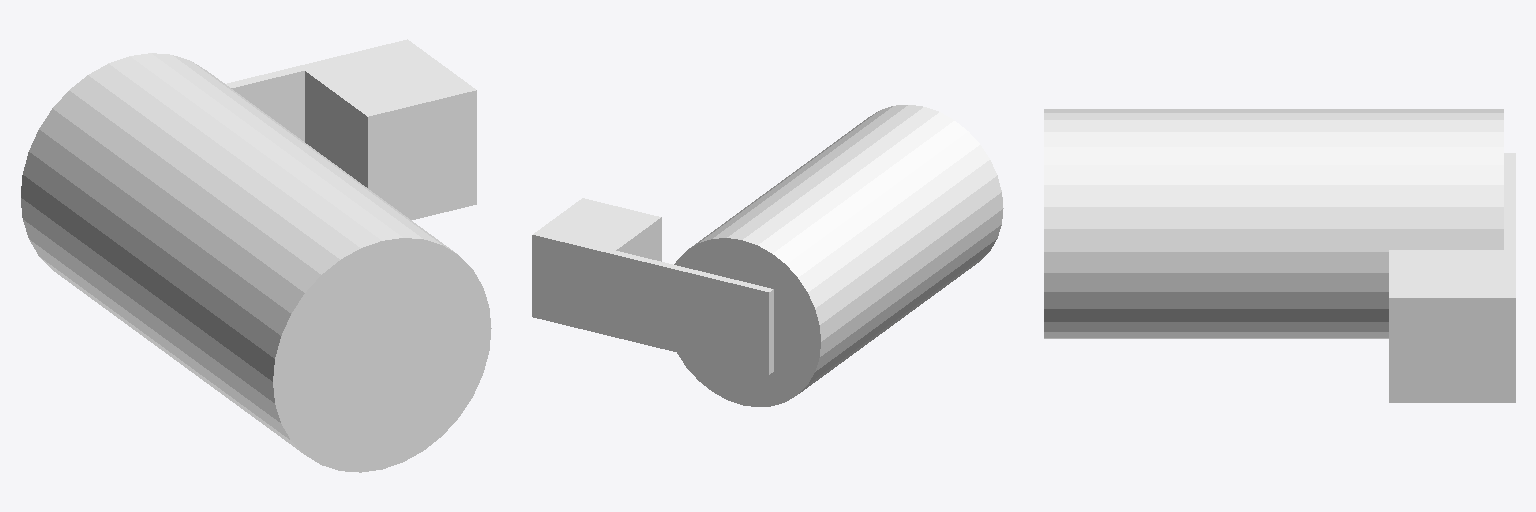
robot.urdf — aubo_i5:
<?xml version="1.0"?>
<robot name="aubo_i5">

    <link name="base_link">
        <inertial>
            <origin xyz="-1.4795E-13 0.0015384 0.020951" rpy="0 0 0" />
            <mass value="0.83419" />
            <inertia ixx="0.0014414" ixy="7.8809E-15" ixz="8.5328E-16" iyy="0.0013542" iyz="-1.4364E-05" izz="0.0024659" />
        </inertial>
        <visual>
            <origin xyz="0 0 0" rpy="0 0 0" />
            <geometry>
                <mesh filename="package://aubo_description/meshes/aubo_i5/visual/base_link.DAE" />
            </geometry>
            <material name="">
                <color rgba="1 1 1 1" />
            </material>
        </visual>
        <collision>
            <origin xyz="0 0 0" rpy="0 0 0" />
            <geometry>
                <mesh filename="package://aubo_description/meshes/aubo_i5/collision/base_link.STL" />
            </geometry>
        </collision>
    </link>

    <link name="shoulder_Link">
        <inertial>
            <origin xyz="3.2508868974735E-07 0.00534955349296065 -0.00883689325611056" rpy="0 0 0" />
            <mass value="1.57658348693929" />
            <inertia ixx="0.0040640448663128" ixy="0" ixz="0" iyy="0.00392863238466817" iyz="-0.000160151642851425" izz="0.0030869857349184" />
        </inertial>
        <visual>
            <origin xyz="0 0 0" rpy="0 0 0" />
            <geometry>
                <mesh filename="package://aubo_description/meshes/aubo_i5/visual/shoulder_Link.DAE" />
            </geometry>
            <material name="">
                <color rgba="1 1 1 1" />
            </material>
        </visual>
        <collision>
            <origin xyz="0 0 0" rpy="0 0 0" />
            <geometry>
                <mesh filename="package://aubo_description/meshes/aubo_i5/collision/shoulder_Link.STL" />
            </geometry>
        </collision>
    </link>

    <joint name="shoulder_joint" type="revolute">
        <origin xyz="0 0 0.122" rpy="0 0 3.1416" />
        <parent link="base_link" />
        <child link="shoulder_Link" />
        <axis xyz="0 0 1" />
        <limit lower="-3.04" upper="3.04" effort="0" velocity="0" />
    </joint>

    <link name="upperArm_Link">
        <inertial>
            <origin xyz="0.203996646979614 2.01304585036544E-10 0.0127641545395984" rpy="0 0 0" />
            <mass value="4.04175782265494" />
            <inertia ixx="0.00965399211106204" ixy="0" ixz="0" iyy="0.144993869035655" iyz="0" izz="0.142607184038966" />
        </inertial>
        <visual>
            <origin xyz="0 0 0" rpy="0 0 0" />
            <geometry>
                <mesh filename="package://aubo_description/meshes/aubo_i5/visual/upperArm_Link.DAE" />
            </geometry>
            <material name="">
                <color rgba="1 1 1 1" />
            </material>
        </visual>
        <collision>
            <origin xyz="0 0 0" rpy="0 0 0" />
            <geometry>
                <mesh filename="package://aubo_description/meshes/aubo_i5/collision/upperArm_Link.STL" />
            </geometry>
        </collision>
    </link>

    <joint name="upperArm_joint" type="revolute">
        <origin xyz="0 0.1215 0" rpy="-1.5708 -1.5708 0" />
        <parent link="shoulder_Link" />
        <child link="upperArm_Link" />
        <axis xyz="0 0 1" />
        <limit lower="-3.04" upper="3.04" effort="0" velocity="0" />
    </joint>

    <link name="foreArm_Link">
        <inertial>
            <origin xyz="0.188922115560337 6.78882434739072E-07 0.0981026740461557" rpy="0 0 0" />
            <mass value="2.27145669098343" />
            <inertia ixx="0.00214322284946289" ixy="0" ixz="-0.00073120631553383" iyy="0.0443926090878205" iyz="0" izz="0.0441273797128365" />
        </inertial>
        <visual>
            <origin xyz="0 0 0" rpy="0 0 0" />
            <geometry>
                <mesh filename="package://aubo_description/meshes/aubo_i5/visual/foreArm_Link.DAE" />
            </geometry>
            <material name="">
                <color rgba="1 1 1 1" />
            </material>
        </visual>
        <collision>
            <origin xyz="0 0 0" rpy="0 0 0" />
            <geometry>
                <mesh filename="package://aubo_description/meshes/aubo_i5/collision/foreArm_Link.STL" />
            </geometry>
        </collision>
    </link>

    <joint name="foreArm_joint" type="revolute">
        <origin xyz="0.408 0 0" rpy="-3.1416 -5.1632E-18 -5.459E-16" />
        <parent link="upperArm_Link" />
        <child link="foreArm_Link" />
        <axis xyz="0 0 1" />
        <limit lower="-3.04" upper="3.04" effort="0" velocity="0" />
    </joint>

    <link name="wrist1_Link">
        <inertial>
            <origin xyz="7.54205137428592E-07 0.0062481254331257 -0.00392367464072373" rpy="0 0 0" />
            <mass value="0.500477539188764" />
            <inertia ixx="0.00071194605962081" ixy="0" ixz="0" iyy="0.00040588242872958" iyz="-2.30808694377512E-05" izz="0.000685574004861334" />
        </inertial>
        <visual>
            <origin xyz="0 0 0" rpy="0 0 0" />
            <geometry>
                <mesh filename="package://aubo_description/meshes/aubo_i5/visual/wrist1_Link.DAE" />
            </geometry>
            <material name="">
                <color rgba="1 1 1 1" />
            </material>
        </visual>
        <collision>
            <origin xyz="0 0 0" rpy="0 0 0" />
            <geometry>
                <mesh filename="package://aubo_description/meshes/aubo_i5/collision/wrist1_Link.STL" />
            </geometry>
        </collision>
    </link>

    <joint name="wrist1_joint" type="revolute">
        <origin xyz="0.376 0 0" rpy="3.1416 -1.8323E-15 1.5708" />
        <parent link="foreArm_Link" />
        <child link="wrist1_Link" />
        <axis xyz="0 0 1" />
        <limit lower="-3.04" upper="3.04" effort="0" velocity="0" />
    </joint>

    <link name="wrist2_Link">
        <inertial>
            <origin xyz="-7.54207620578635E-07 -0.00624812542617262 -0.00392367464115684" rpy="0 0 0" />
            <mass value="0.500477539245988" />
            <inertia ixx="0.00071194605981829" ixy="0" ixz="0" iyy="0.000405882428755442" iyz="2.30808694515886E-05" izz="0.000685574005112107" />
        </inertial>
        <visual>
            <origin xyz="0 0 0" rpy="0 0 0" />
            <geometry>
                <mesh filename="package://aubo_description/meshes/aubo_i5/visual/wrist2_Link.DAE" />
            </geometry>
            <material name="">
                <color rgba="1 1 1 1" />
            </material>
        </visual>
        <collision>
            <origin xyz="0 0 0" rpy="0 0 0" />
            <geometry>
                <mesh filename="package://aubo_description/meshes/aubo_i5/collision/wrist2_Link.STL" />
            </geometry>
        </collision>
    </link>

    <joint name="wrist2_joint" type="revolute">
        <origin xyz="0 0.1025 0" rpy="-1.5708 -1.8709E-15 -1.6653E-16" />
        <parent link="wrist1_Link" />
        <child link="wrist2_Link" />
        <axis xyz="0 0 1" />
        <limit lower="-3.04" upper="3.04" effort="0" velocity="0" />
    </joint>

    <link name="wrist3_Link">
        <inertial>
            <origin xyz="3.92048778449938E-10 0.000175788057281467 -0.0213294490706684" rpy="0 0 0" />
            <mass value="0.158309554874285" />
            <inertia ixx="7.31376196034769E-05" ixy="0" ixz="0" iyy="7.19528188876563E-05" iyz="0" izz="0.000108772439051422" />
        </inertial>
        <visual>
            <origin xyz="0 0 0" rpy="0 0 0" />
            <geometry>
                <mesh filename="package://aubo_description/meshes/aubo_i5/visual/wrist3_Link.DAE" />
            </geometry>
            <material name="">
                <color rgba="1 1 1 1" />
            </material>
        </visual>
        <collision>
            <origin xyz="0 0 0" rpy="0 0 0" />
            <geometry>
                <mesh filename="package://aubo_description/meshes/aubo_i5/collision/wrist3_Link.STL" />
            </geometry>
        </collision>
    </link>

    <joint name="wrist3_joint" type="revolute">
        <origin xyz="0 -0.094 0" rpy="1.5708 0 1.7907E-15" />
        <parent link="wrist2_Link" />
        <child link="wrist3_Link" />
        <axis xyz="0 0 1" />
        <limit lower="-3.04" upper="3.04" effort="0" velocity="0" />
    </joint>


    <!--/////////////////////////////// camera_base ////////////////////////////////////-->
    <link name="camera_base">
        <inertial>
            <origin xyz="0 0 0" rpy="0 0 0" />
            <mass value="0" />
            <inertia ixx="0" ixy="0" ixz="0" iyy="0" iyz="0" izz="0" />
        </inertial>
        <visual>
            <origin xyz="0.055 0 0.0025" rpy="0 0 0" />
            <geometry>
                <box size="0.15 0.05 0.005" />
            </geometry>
            <material name="">
                <color rgba="1 1 1 1" />
            </material>
        </visual>
        <collision>
            <origin xyz="0.055 0 0.0025" rpy="0 0 0" />
            <geometry>
                <box size="0.15 0.05 0.005" />
            </geometry>
        </collision>
    </link>

    <!--/////////////////////////////// camera_base_joint ////////////////////////////////////-->
    <joint name="camera_base_joint" type="fixed">
        <origin xyz="0 0 0" rpy="0 0 0" />
        <parent link="wrist3_Link" />
        <child link="camera_base" />
    </joint>

    <!--/////////////////////////////// gripper_Link ////////////////////////////////////-->
    <link name="gripper_Link">
        <inertial>
            <origin xyz="0 0 0" rpy="0 0 0" />
            <mass value="0" />
            <inertia ixx="0" ixy="0" ixz="0" iyy="0" iyz="0" izz="0" />
        </inertial>
        <visual>
            <origin xyz="0 0 0.105" rpy="0 0 0" />
            <geometry>
                <!-- <mesh filename="package://aubo_description/meshes/aubo_i5/visual/wrist3_Link.DAE" /> -->
                <cylinder radius="0.05" length="0.20" />
            </geometry>
            <material name="">
                <color rgba="1 1 1 1" />
            </material>
        </visual>
        <collision>
            <origin xyz="0 0 0.105" rpy="0 0 0" />
            <geometry>
                <!-- <mesh filename="package://aubo_description/meshes/aubo_i5/collision/wrist3_Link.STL" /> -->
                <cylinder radius="0.03" length="0.20" />
            </geometry>
        </collision>
    </link>

    <!--/////////////////////////////// gripper_joint ////////////////////////////////////-->
    <joint name="gripper_joint" type="fixed">
        <origin xyz="0 0 0" rpy="0 0 0" />
        <parent link="camera_base" />
        <child link="gripper_Link" />
    </joint>

    <!--/////////////////////////////// gripper_tip_Link ////////////////////////////////////-->
    <link name="gripper_tip_Link"></link>

    <!--/////////////////////////////// gripper_tip_joint ////////////////////////////////////-->
    <joint name="gripper_tip_joint" type="fixed">
        <origin xyz="0 0 0.2" rpy="0 0 0" />
        <parent link="gripper_Link" />
        <child link="gripper_tip_Link" />
    </joint>

    <!--/////////////////////////////// camera_link ////////////////////////////////////-->
    <link name="camera_link">
        <visual>
            <origin xyz="0.105 0 0.03" rpy="0 0 0" />
            <geometry>
                <box size="0.05 0.05 0.05" />
            </geometry>
            <material name="">
                <color rgba="1 1 1 1" />
            </material>
        </visual>
        <collision>
            <origin xyz="0.105 0 0.03" rpy="0 0 0" />
            <geometry>
                <box size="0.05 0.05 0.05" />
            </geometry>
        </collision>
    </link>

    <!--/////////////////////////////// camera_joint ////////////////////////////////////-->
    <joint name="camera_joint" type="fixed">
        <origin xyz="0 0 0.0" rpy="0 0 0" />
        <parent link="camera_base" />
        <child link="camera_link" />
    </joint>

    <link name="world" />

    <joint name="world_joint" type="fixed">
        <parent link="world" />
        <child link="base_link" />
        <origin xyz="0.0 0.0 0.0" rpy="0.0 0.0 0.0" />
    </joint>

    <!-- <link name="cam_eyetohand">
        <visual>
            <origin xyz="-0.863 -0.410 0.721" rpy="-1.6257138 0.0310401 -0.6831306" />
            <geometry>
                <box size="0.05 0.05 0.05" />
            </geometry>
            <material name="">
                <color rgba="1 1 1 1" />
            </material>
        </visual>
        <collision>
            <origin xyz="-0.863 -0.410 0.721" rpy="-1.6257138 0.0310401 -0.6831306" />
            <geometry>
                <box size="0.05 0.05 0.05" />
            </geometry>
        </collision>
    </link>

    <joint name="cam_eyetohand_joint" type="fixed">
        <origin xyz="-0.863 -0.410 0.721" rpy="-1.6257138 0.0310401 -0.6831306" />
        <parent link="base_link" />
        <child link="cam_eyetohand" />
    </joint> -->

</robot>

--- Render facts (derived) ---
Views: 3 orthographic renders of the robot side by side, from view 1: azimuth 30°, elevation 25°; view 2: azimuth 150°, elevation 25°; view 3: azimuth 270°, elevation 25°.
Robot: aubo_i5 — 12 links, 11 joints (6 revolute, 5 fixed); root link world; default pose: every joint at zero.
Visible links, largest first — view 1: gripper_Link, camera_link, camera_base; view 2: gripper_Link, camera_base, camera_link; view 3: gripper_Link, camera_link, camera_base.
Link boxes in pixels (box(x1,y1,x2,y2)): gripper_Link: box(21, 53, 491, 472); camera_link: box(305, 44, 476, 219); camera_base: box(226, 39, 412, 141); gripper_Link: box(674, 105, 1003, 406); camera_base: box(532, 231, 773, 374); camera_link: box(538, 198, 661, 261); gripper_Link: box(1044, 109, 1503, 338); camera_link: box(1389, 250, 1503, 402); camera_base: box(1504, 153, 1515, 402).
Bounding box of the posed robot: 0.18 × 0.205 × 0.1 m (x, y, z).
Meshes: 7 distinct files referenced, 0 mesh visuals loaded (none loaded); not drawn: 7 (reference not matched to a file when rendering).